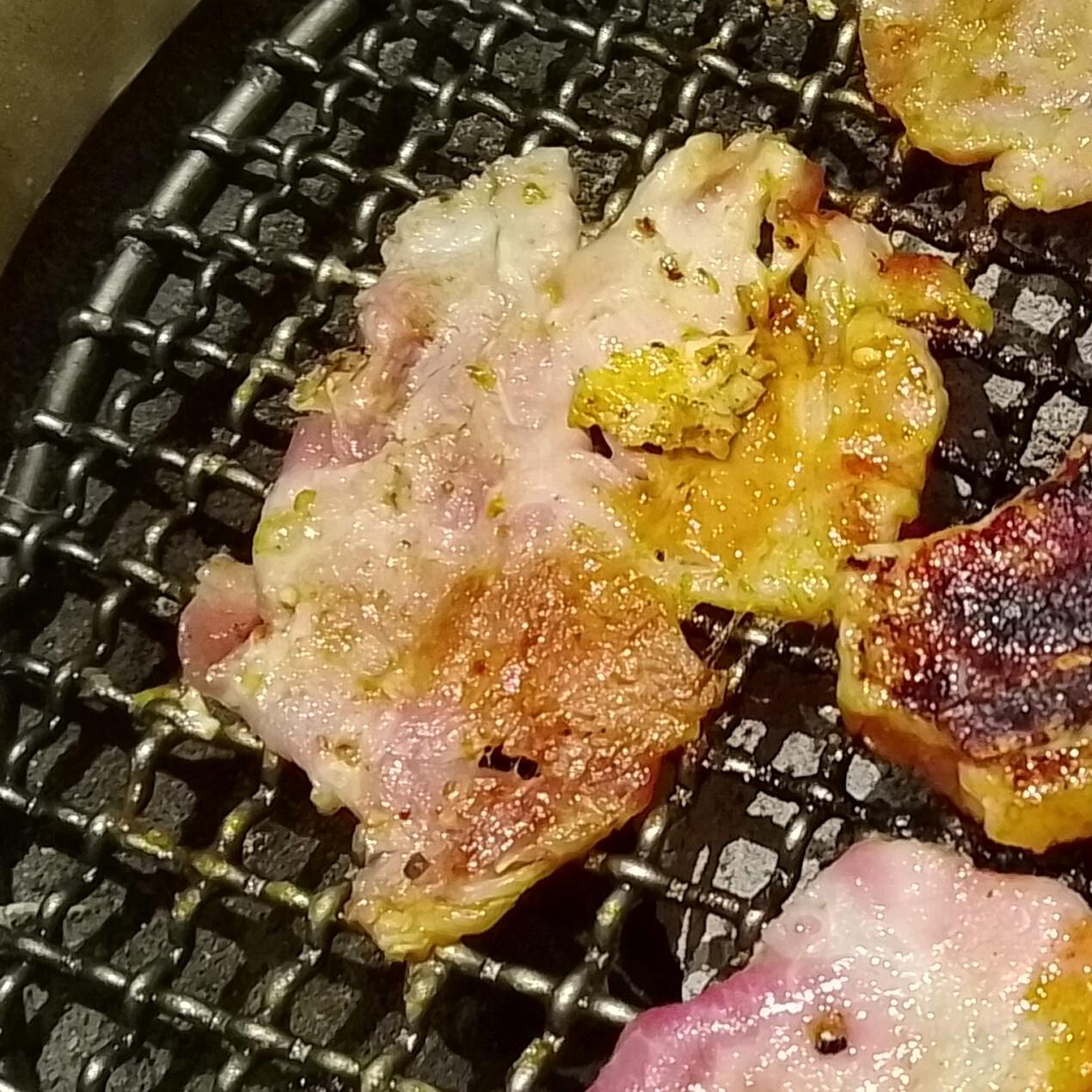Overcooked: (836, 457, 1091, 861)
Undercooked: (178, 138, 941, 966), (584, 838, 1091, 1091)
Well-Cooked: (858, 0, 1091, 215)
